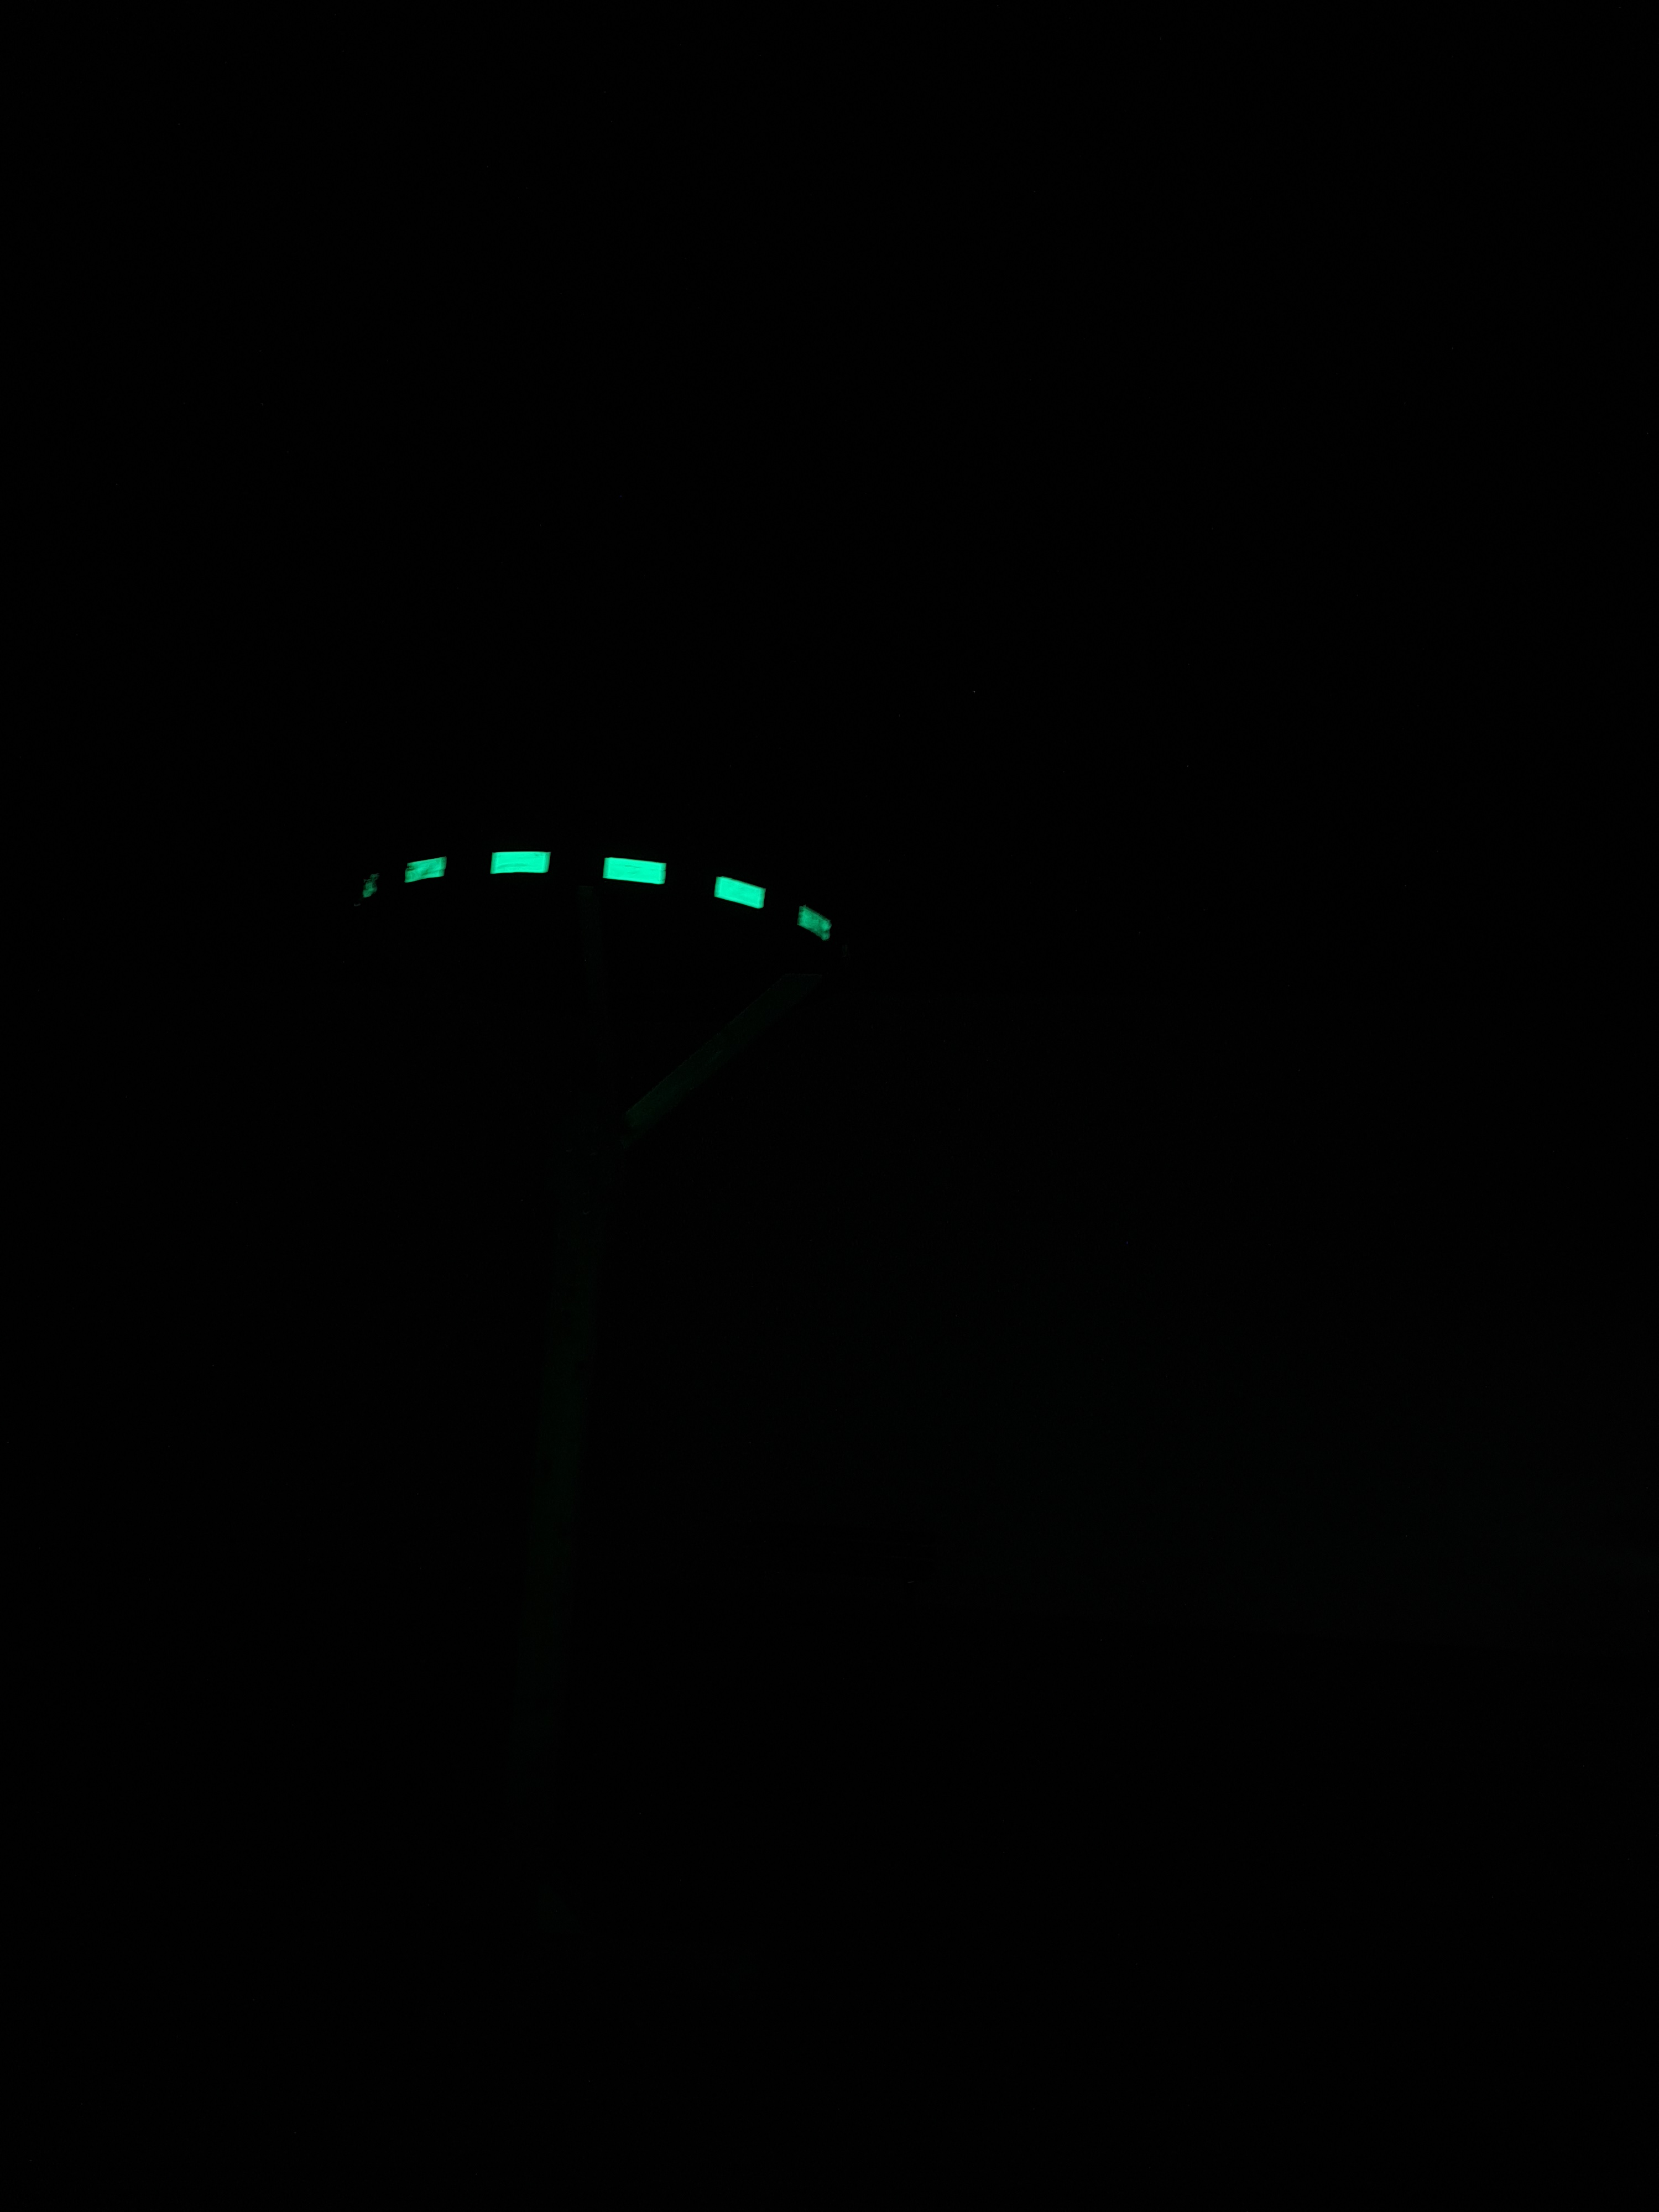hoop: (361, 841, 836, 946)
